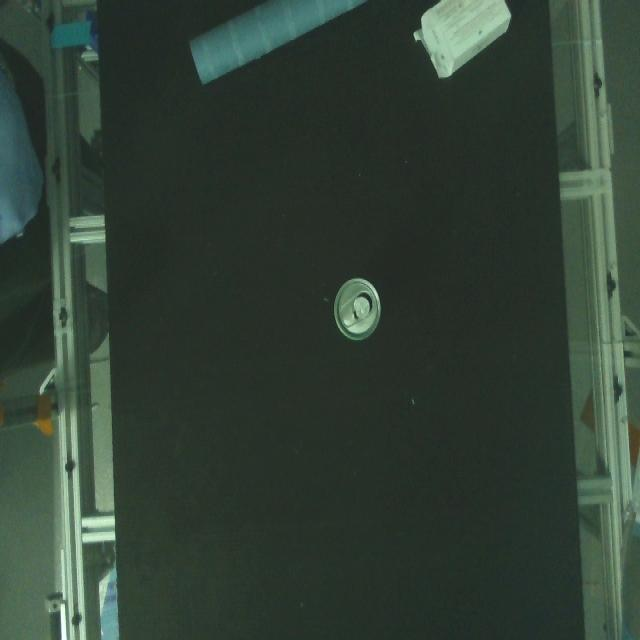paper: (179, 0, 376, 100), (406, 0, 514, 98), (326, 267, 390, 353)
